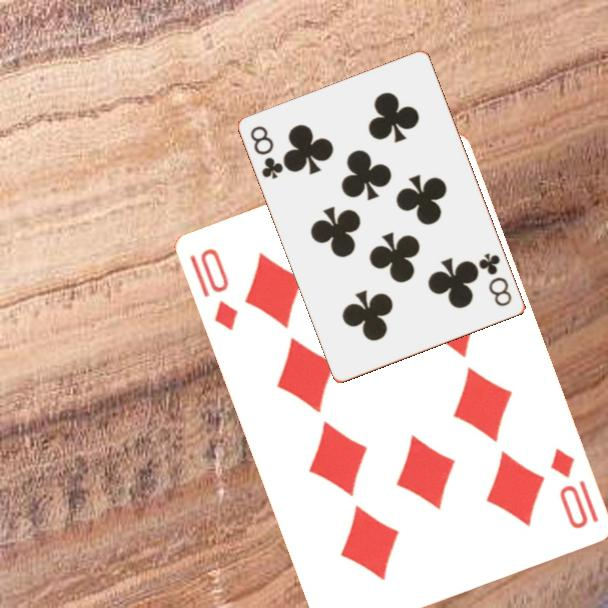c08: (475, 249, 515, 310), (247, 122, 287, 182)
d10: (186, 245, 242, 334), (547, 444, 602, 532)
